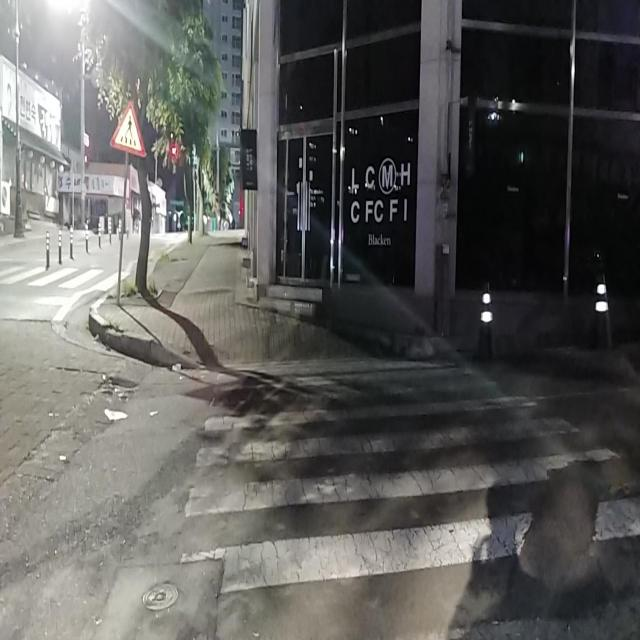횡단보도: (177, 361, 640, 640), (0, 263, 135, 297)
